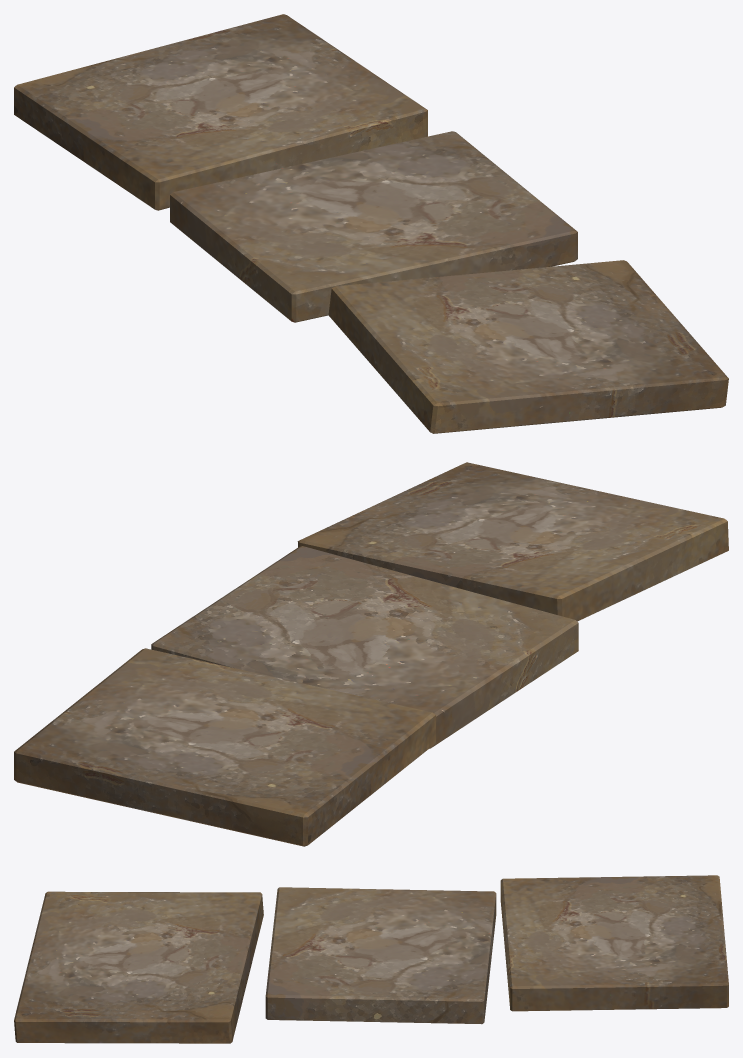
Rendered from Medium_Platform.FBX.
3 renders of one model, top to bottom at view 1: azimuth 30°, elevation 25°; view 2: azimuth 150°, elevation 25°; view 3: azimuth 270°, elevation 25°, orthographic. The views are drawn at different scales.
Visible parts, largest first — view 1: Box196; view 2: Box196; view 3: Box196.
Part boxes in pixels (bbox=[...]): Box196: bbox=[14, 14, 728, 433]; Box196: bbox=[14, 462, 728, 846]; Box196: bbox=[14, 875, 728, 1043].
Bounding box in the file's own units: 174 × 39.36 × 428.
